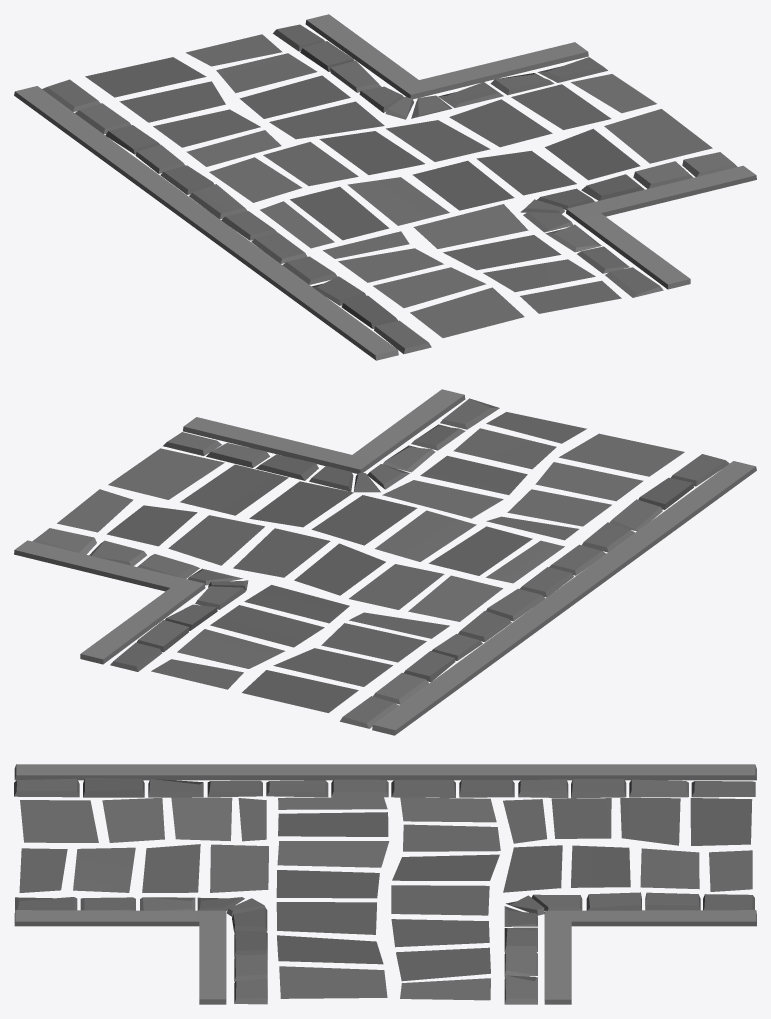
Rendered from Road Cobble T Short.glb.
3 renders of one model, top to bottom at view 1: azimuth 30°, elevation 25°; view 2: azimuth 150°, elevation 25°; view 3: azimuth 270°, elevation 25°, orthographic. The views are drawn at different scales.
Visible parts, largest first — view 1: RoadCobbleTShort; view 2: RoadCobbleTShort; view 3: RoadCobbleTShort.
Part boxes in pixels (x1,y1,x2,y2): RoadCobbleTShort: (14, 14, 756, 360); RoadCobbleTShort: (14, 389, 756, 735); RoadCobbleTShort: (14, 764, 756, 1004).
Size of what is drawn, in the model's own units: 3 by 0.0402 by 3.99.
1 material, 1 textured.
